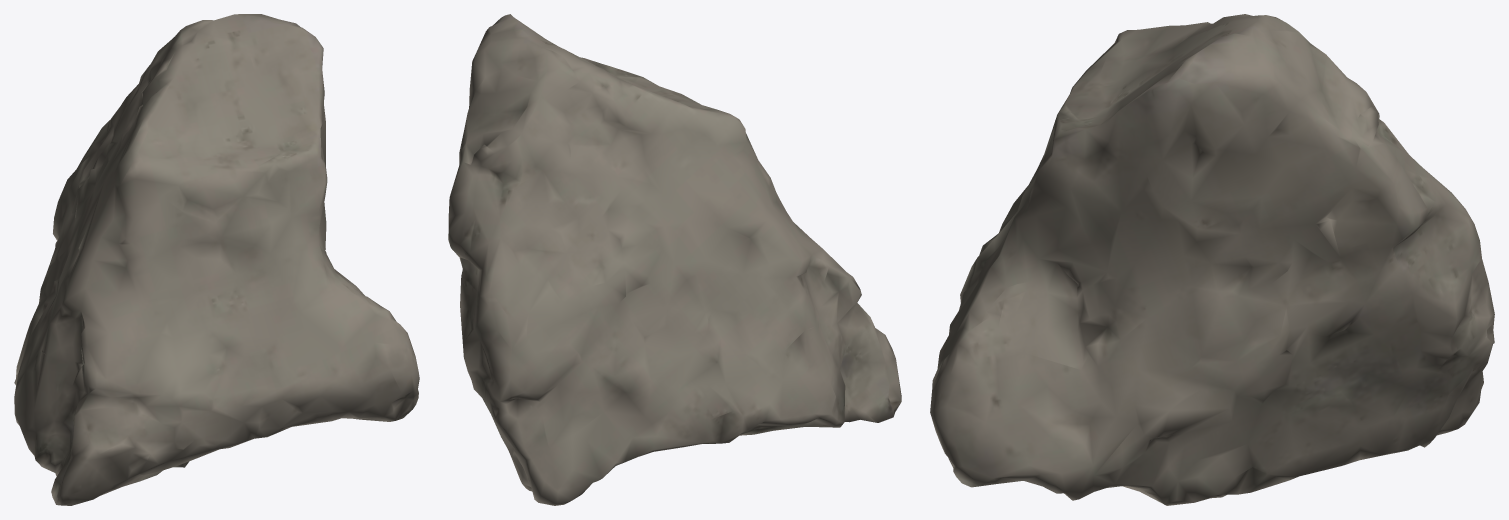
File: moon_rock_05.glb
3 views of the same model, side by side, from view 1: azimuth 30°, elevation 25°; view 2: azimuth 150°, elevation 25°; view 3: azimuth 270°, elevation 25° (orthographic). The views are drawn at different scales.
Visible parts, largest first — view 1: moon_rock_05_LOD0; view 2: moon_rock_05_LOD0; view 3: moon_rock_05_LOD0.
Part boxes in pixels (x1,y1,x2,y2): moon_rock_05_LOD0: [14, 14, 419, 505]; moon_rock_05_LOD0: [448, 14, 901, 505]; moon_rock_05_LOD0: [930, 14, 1494, 505].
Size of the model in its own units: 0.0717 by 0.0734 by 0.0811.
Materials: 1 (1 with a texture image).
